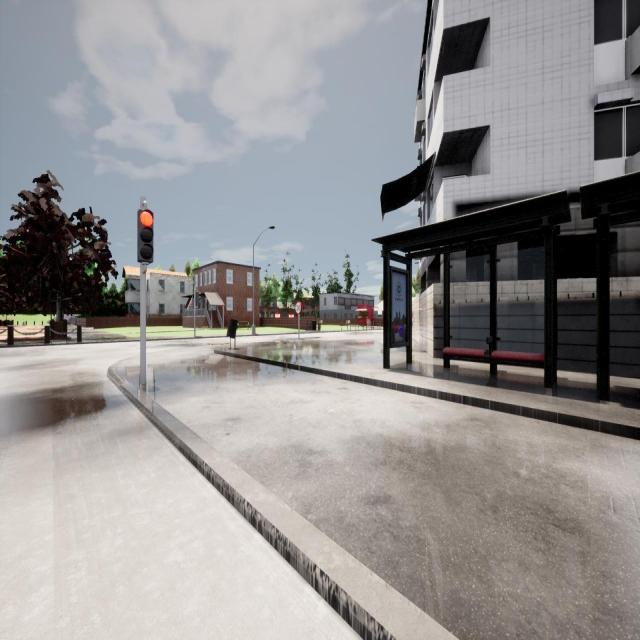Traffic_Signs: (295, 300, 302, 314)
traffic_light: (137, 209, 154, 262), (196, 291, 202, 306)
